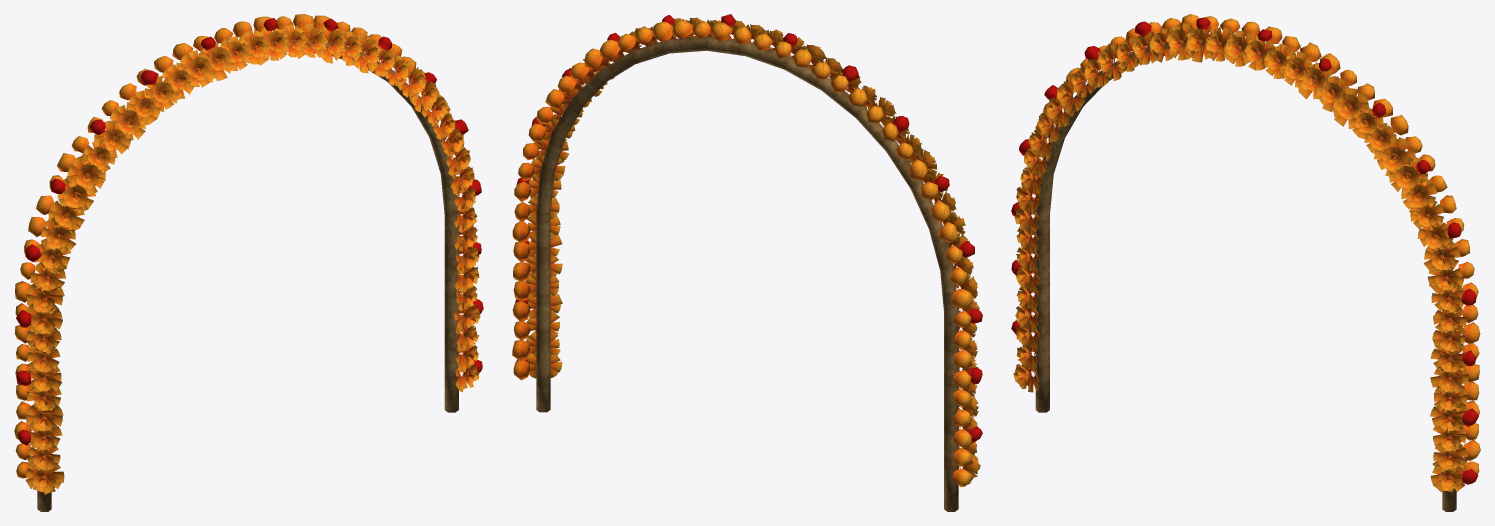
File: arco_cempasuchil.gltf
3 renders of one model, left to right at view 1: azimuth 30°, elevation 25°; view 2: azimuth 150°, elevation 25°; view 3: azimuth 330°, elevation 25°, orthographic.
Parts seen in each view (by area): view 1: flores, arco_cempasuchil; view 2: flores, arco_cempasuchil; view 3: flores, arco_cempasuchil.
Part boxes in pixels (bbox=[...]): flores: bbox=[14, 14, 483, 494]; arco_cempasuchil: bbox=[37, 39, 458, 511]; flores: bbox=[512, 14, 982, 487]; arco_cempasuchil: bbox=[536, 36, 958, 511]; flores: bbox=[1011, 14, 1480, 492]; arco_cempasuchil: bbox=[1035, 40, 1456, 511].
Size of the model in its own units: 2.97 by 2.67 by 0.2798.
3 materials, 3 textured.
